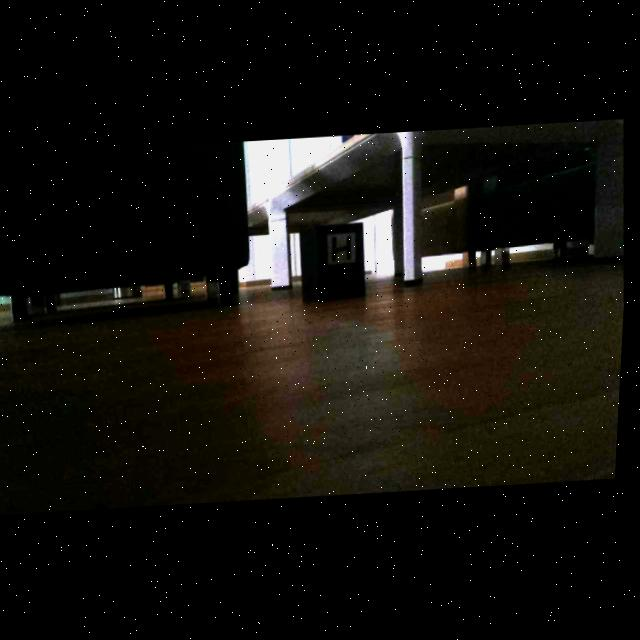H: (336, 236, 354, 261)
